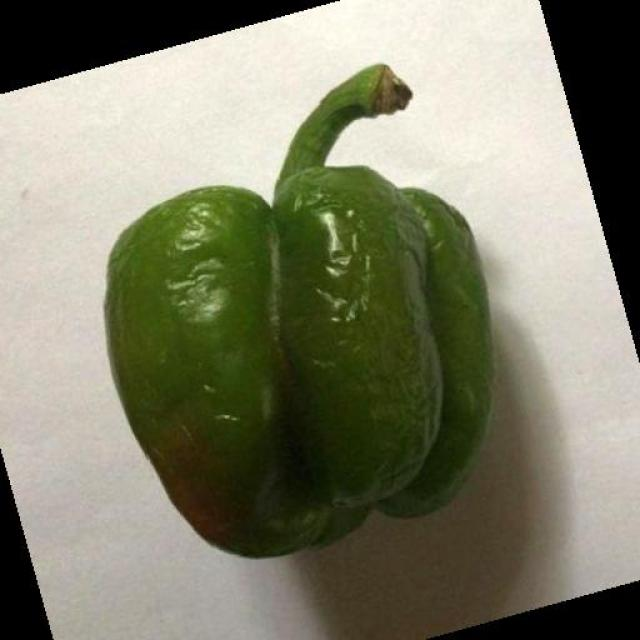Stale_Capsicum: (95, 182, 488, 640), (484, 553, 486, 633)
